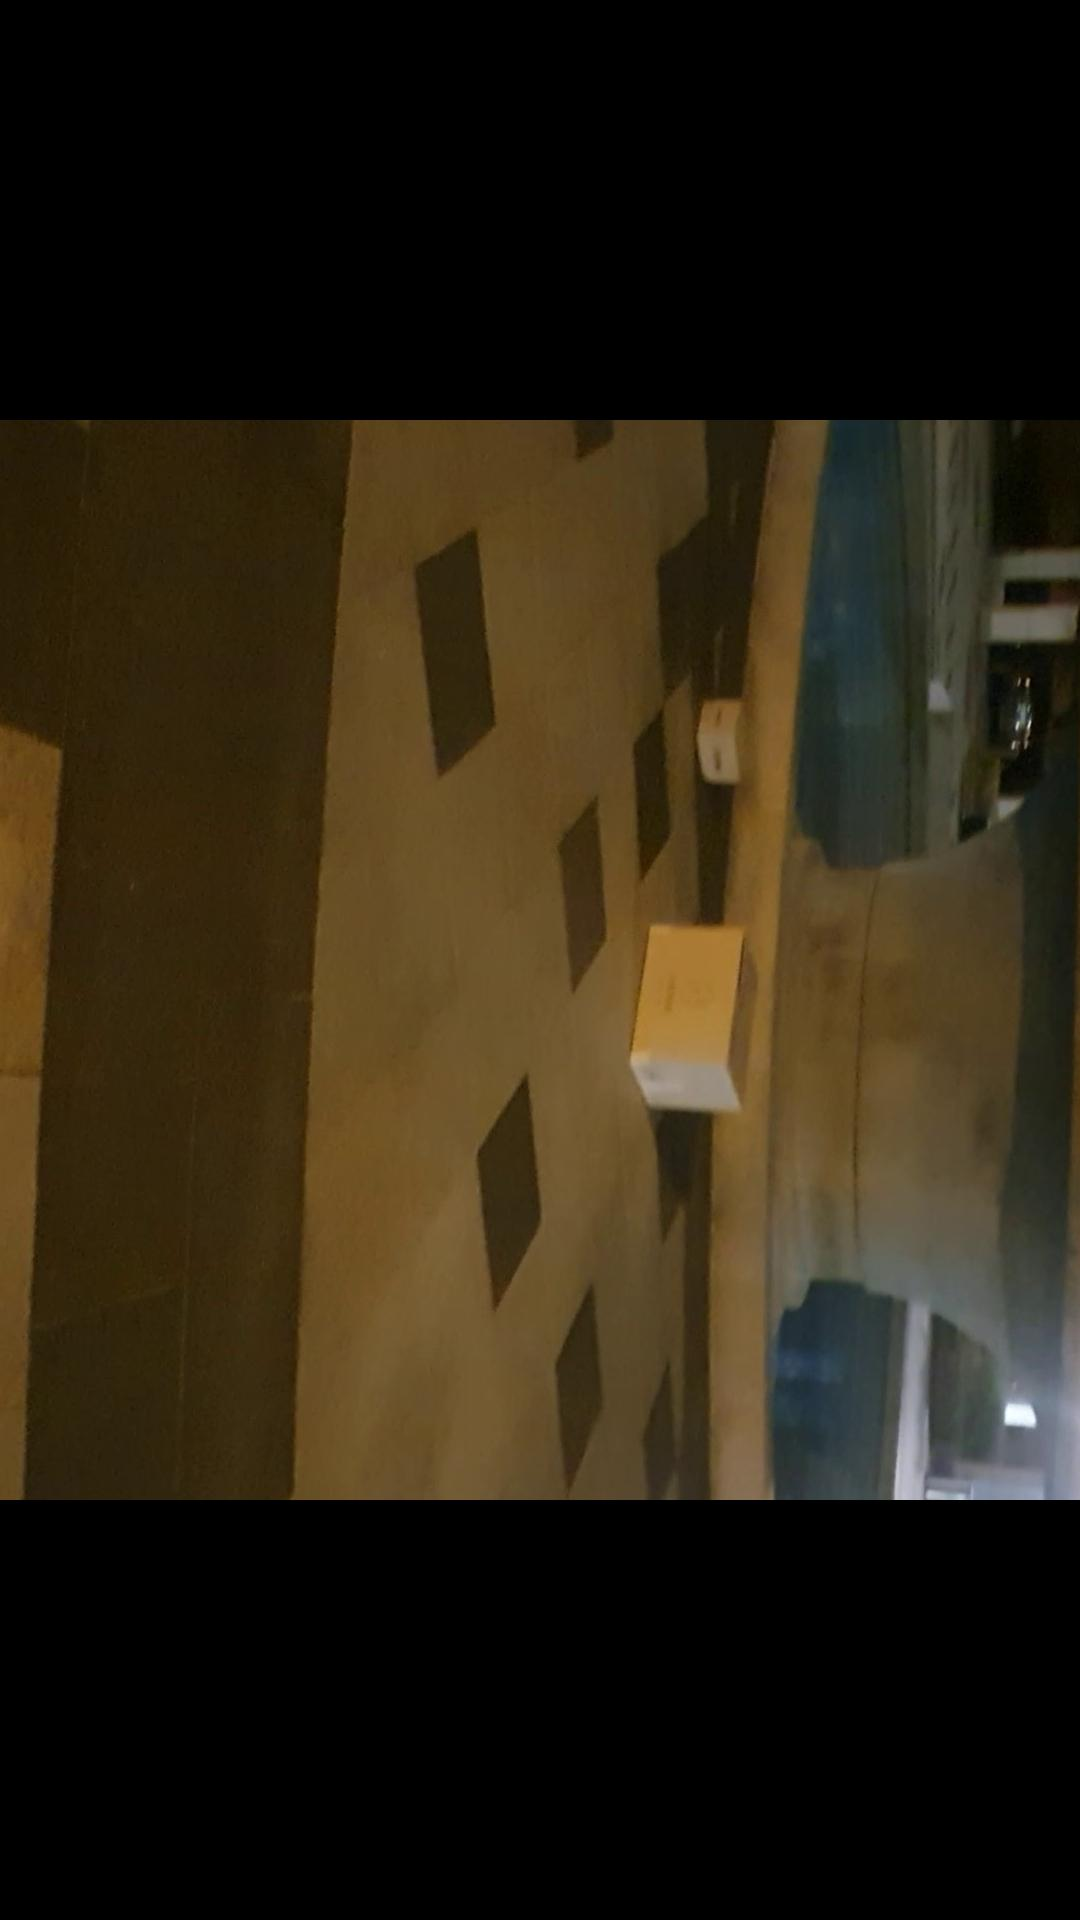Box: (625, 918, 777, 1117), (692, 696, 762, 795)
